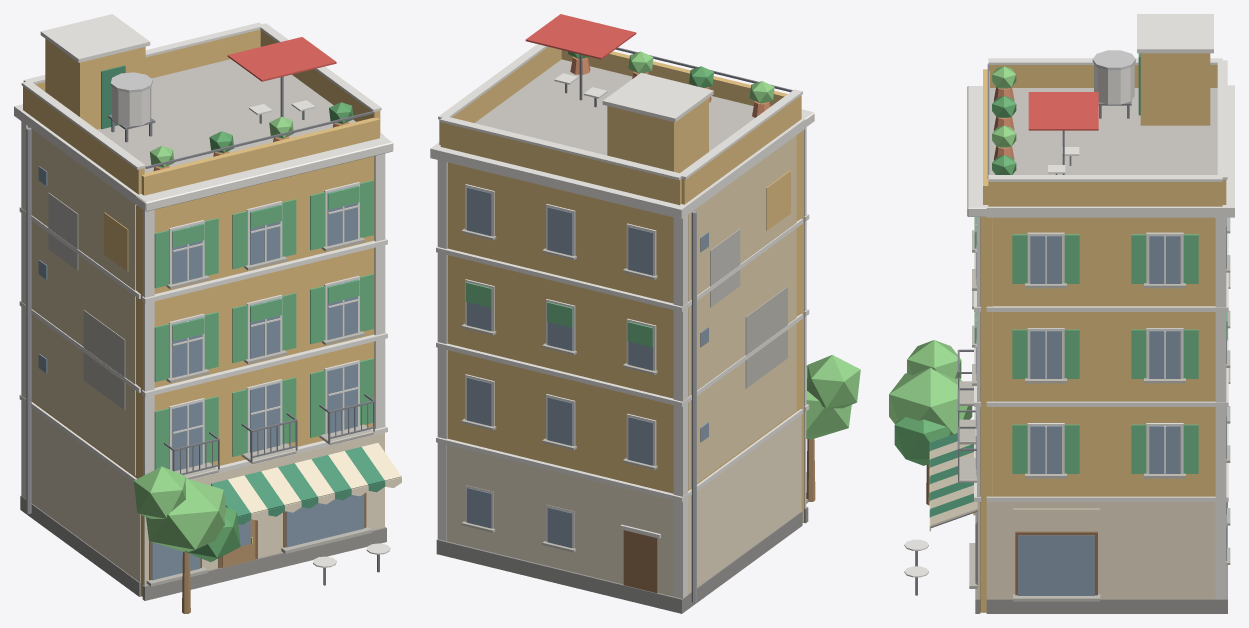
File: env_plaza_building_04.glb
3 renders of one model, left to right at view 1: azimuth 30°, elevation 25°; view 2: azimuth 150°, elevation 25°; view 3: azimuth 270°, elevation 25°, orthographic.
Visible parts, largest first — view 1: env_plaza_building_04_body; view 2: env_plaza_building_04_body; view 3: env_plaza_building_04_body.
Boxes of the visible parts, x1,y1,x2,y2 form: env_plaza_building_04_body: (14,14,401,613); env_plaza_building_04_body: (430,14,860,613); env_plaza_building_04_body: (889,14,1234,613).
Bounding box in the file's own units: 9.28 × 15.37 × 9.89.
